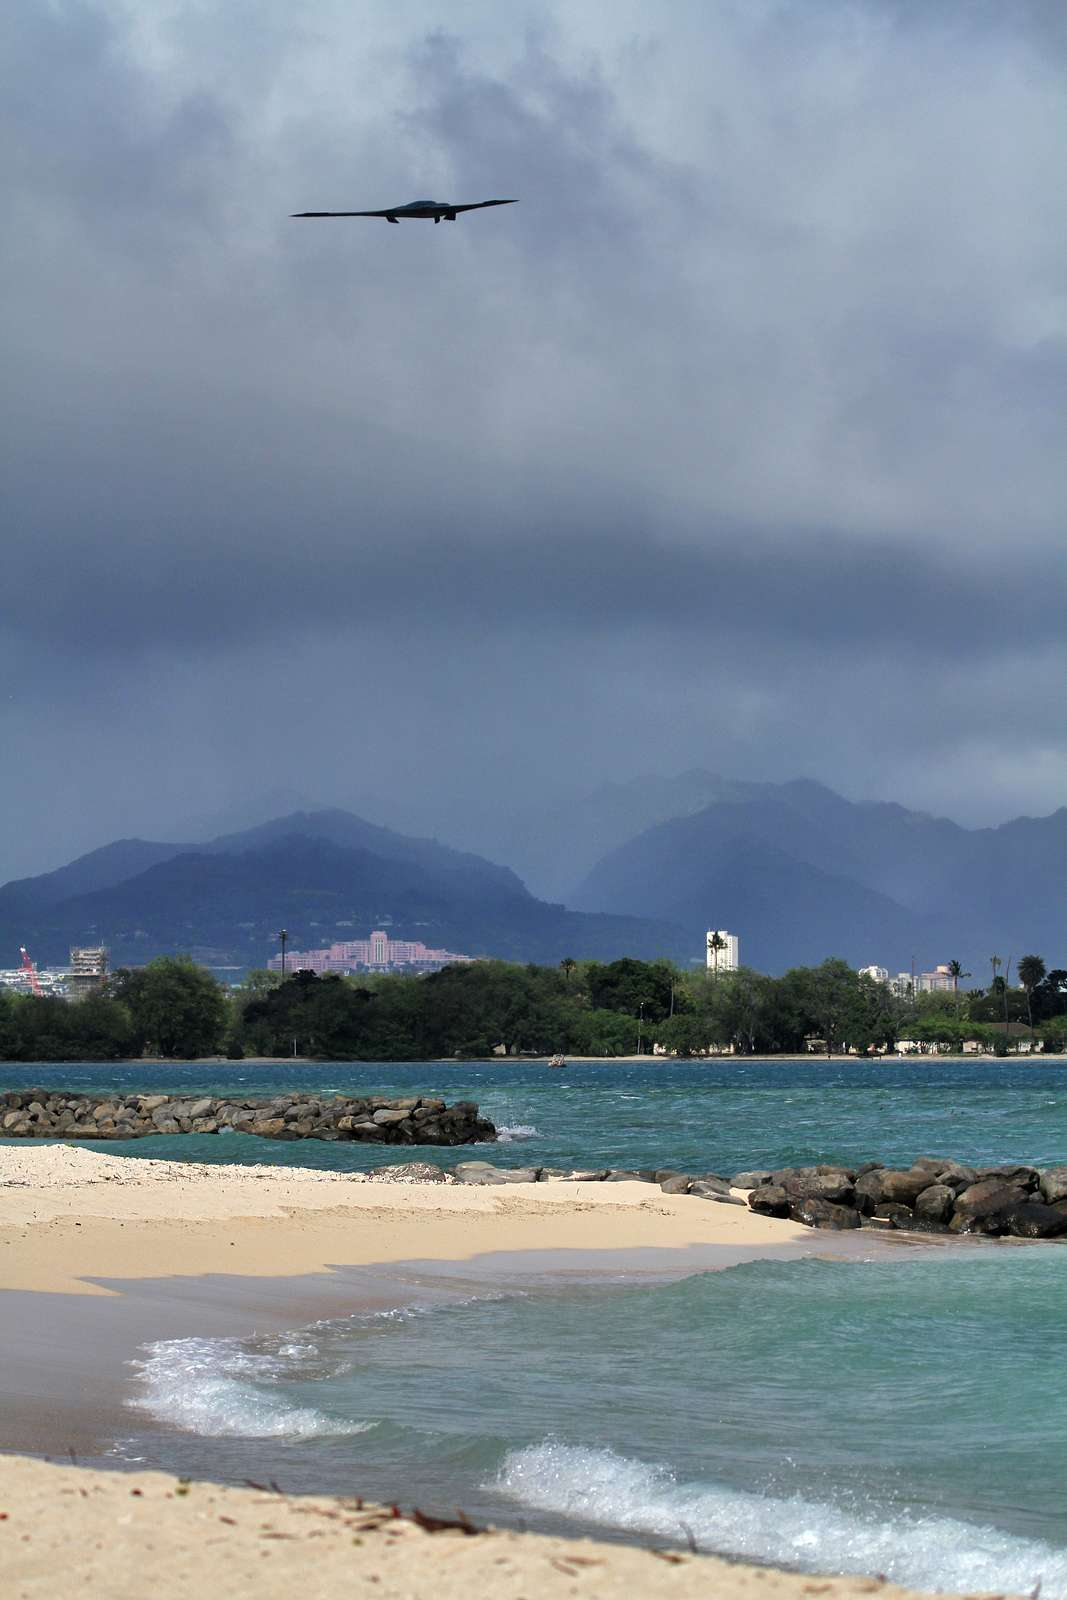B2: (287, 199, 520, 224)
